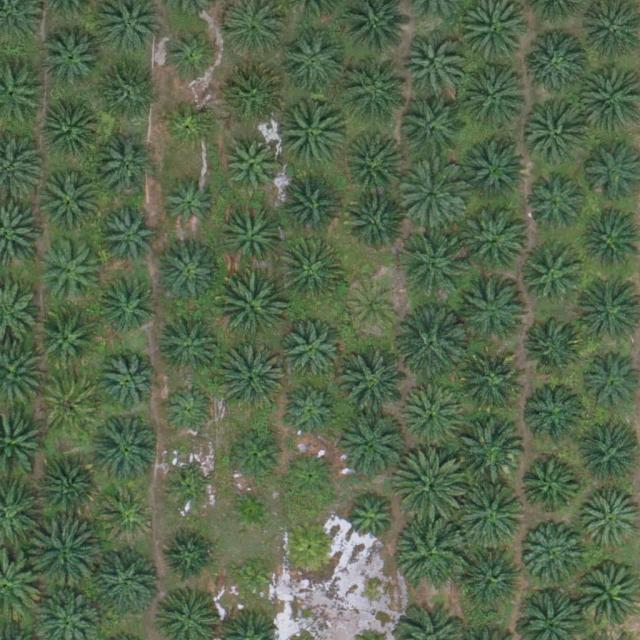Healthy: (272, 97, 343, 168), (397, 159, 467, 230), (461, 61, 531, 132), (92, 545, 162, 616), (457, 478, 527, 549), (396, 448, 466, 519), (455, 414, 525, 485), (397, 231, 467, 302), (215, 343, 286, 413), (216, 273, 287, 343), (91, 414, 161, 485), (339, 351, 409, 422), (336, 409, 406, 480), (27, 520, 97, 590), (399, 517, 469, 587), (397, 310, 467, 380), (277, 237, 347, 307), (40, 170, 103, 233), (95, 66, 158, 129), (275, 174, 338, 237), (464, 136, 527, 199), (527, 30, 590, 93), (517, 456, 580, 519), (402, 386, 465, 449), (280, 319, 343, 382), (220, 206, 283, 269), (43, 99, 105, 162), (43, 26, 105, 89), (99, 134, 161, 197), (230, 64, 292, 127), (281, 31, 343, 94), (340, 131, 402, 194), (346, 68, 408, 131), (403, 33, 465, 96), (399, 99, 461, 162), (527, 108, 589, 171), (522, 523, 584, 586), (525, 379, 587, 442), (523, 314, 585, 377), (464, 210, 527, 272), (464, 283, 527, 345), (459, 354, 522, 416), (340, 191, 403, 253), (157, 244, 219, 307), (158, 314, 220, 377), (97, 351, 159, 414), (38, 238, 100, 301), (36, 306, 98, 369), (40, 374, 102, 437), (37, 458, 99, 520), (464, 547, 526, 609), (520, 242, 582, 304), (160, 179, 215, 234), (164, 96, 219, 151), (164, 26, 219, 81), (223, 139, 278, 194), (528, 176, 583, 231), (283, 449, 338, 504), (100, 488, 155, 543), (162, 528, 217, 583), (284, 384, 339, 439), (227, 430, 282, 485), (161, 385, 216, 440), (101, 280, 156, 335), (100, 212, 155, 267), (343, 491, 397, 546)
Small: (227, 487, 274, 535), (169, 469, 216, 516), (230, 555, 277, 602)
Yellow: (283, 519, 338, 575), (346, 281, 401, 336)
